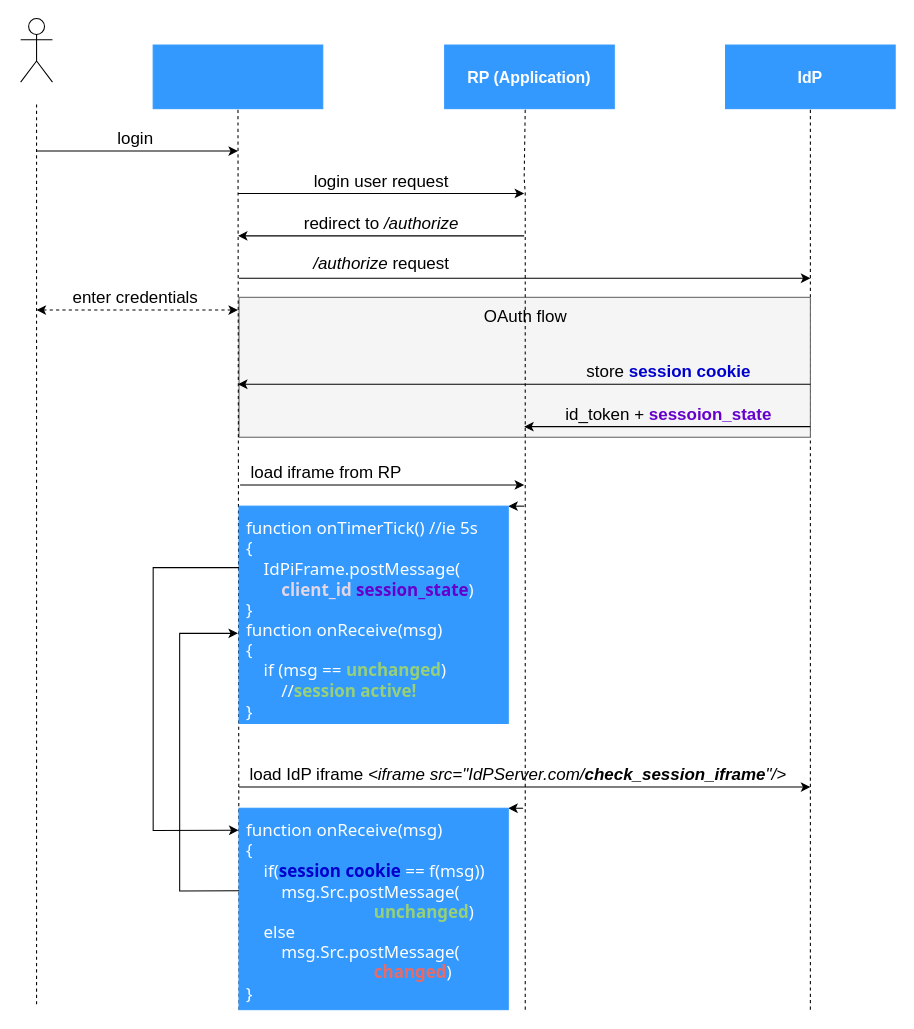
Some shapes in this 914 by 1029 pixel diagram are drawn without their labels. The centre of each missing label's shape, as x and y in pixels:
Browser: pixel 237 76
User: pixel 36 49
